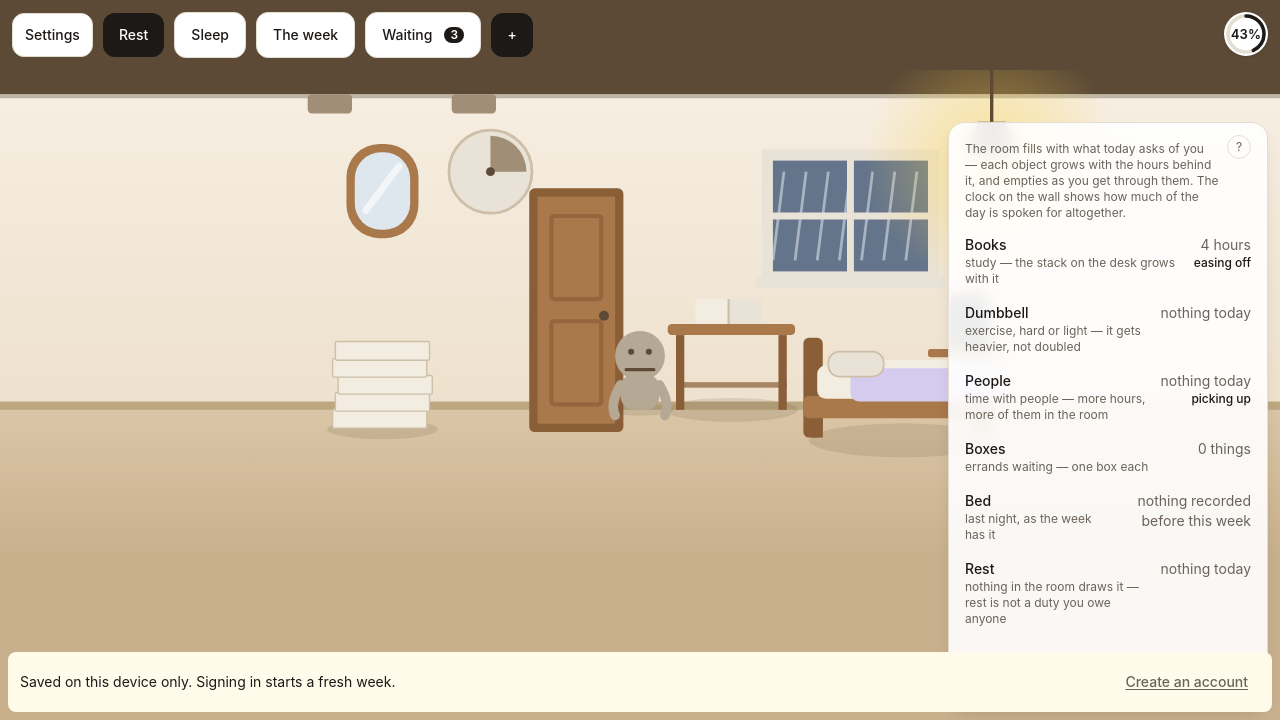
Scenario: RoomShell › shows the room on first run with no saved data
Click the button with test id "open-notices" at {"x": 423, "y": 35}, box left=365, top=12, right=481, bottom=58
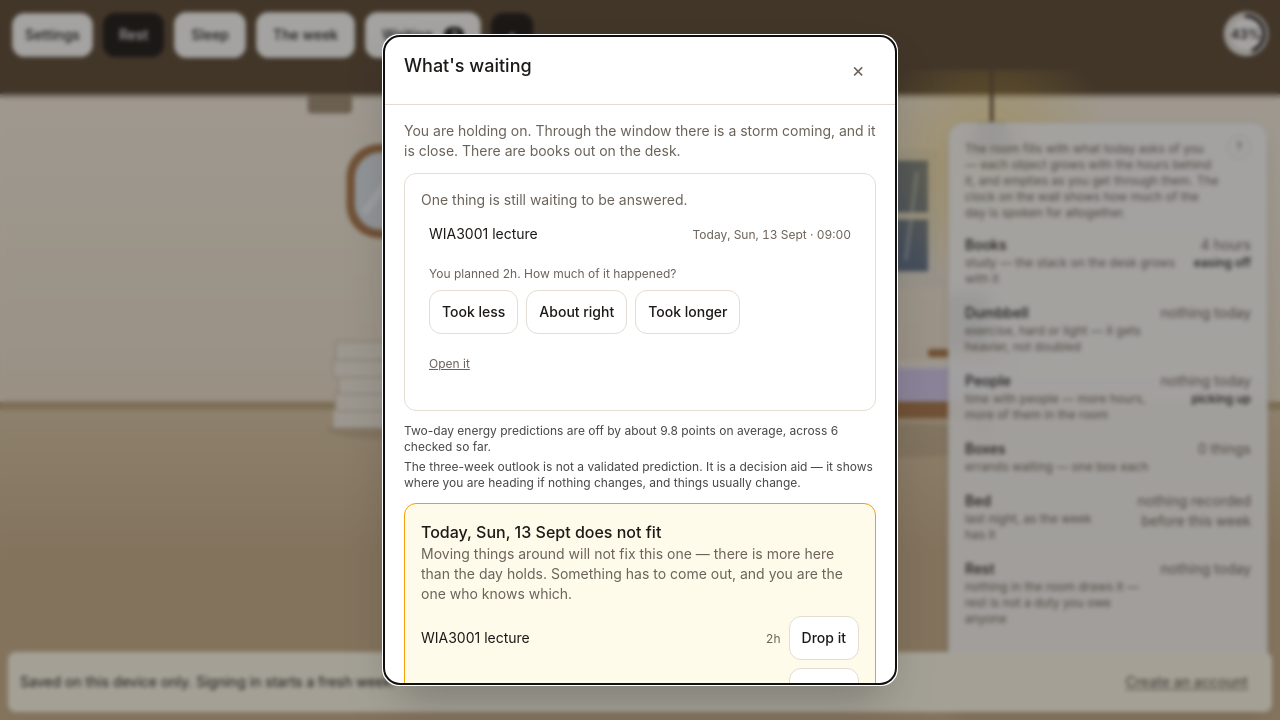
Result: the text with test id "room-text-equivalent" is shown at left=404, top=121, right=876, bottom=161
